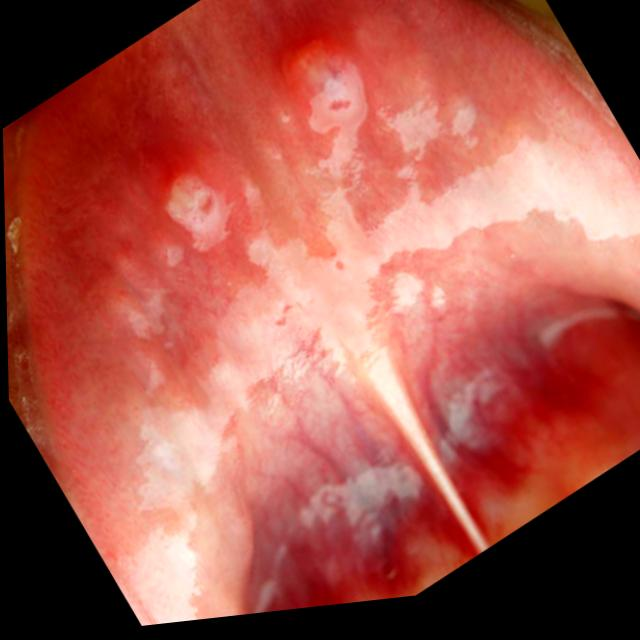ulcer: (285, 39, 367, 149), (166, 171, 229, 250)
